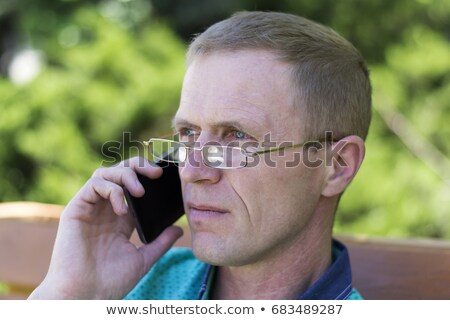phone: (103, 132, 185, 244)
talk: (44, 101, 331, 286)
